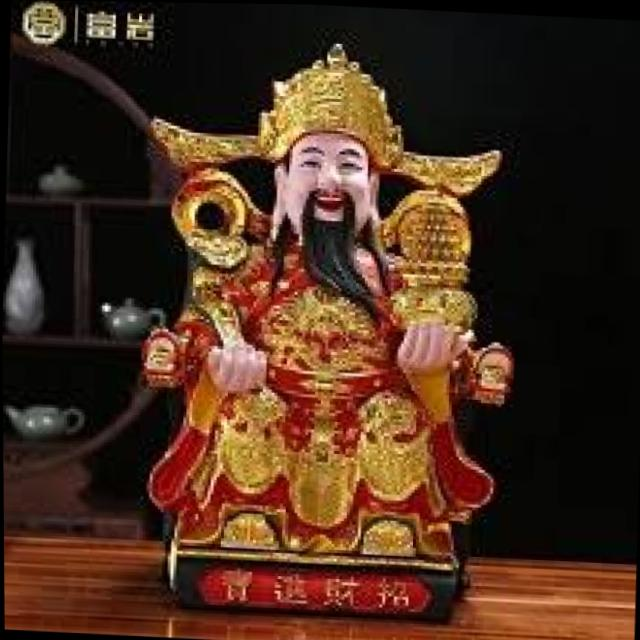Cai shen: (152, 25, 484, 566)
